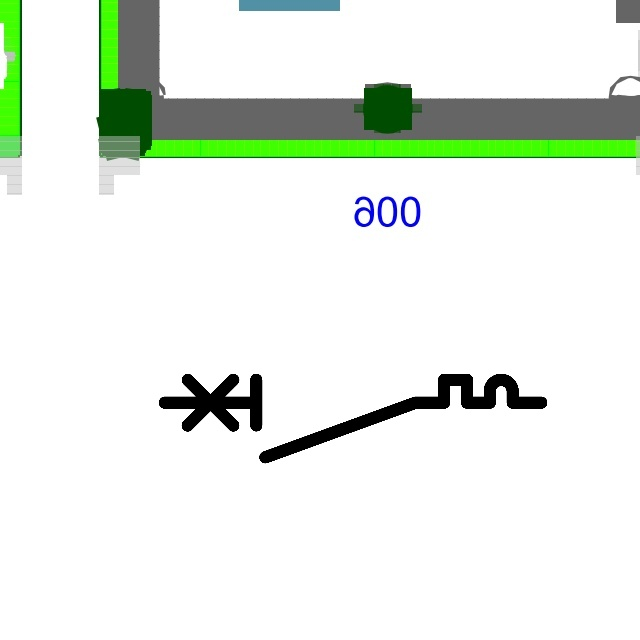interruptor_termomagnetico: (155, 370, 551, 467)
